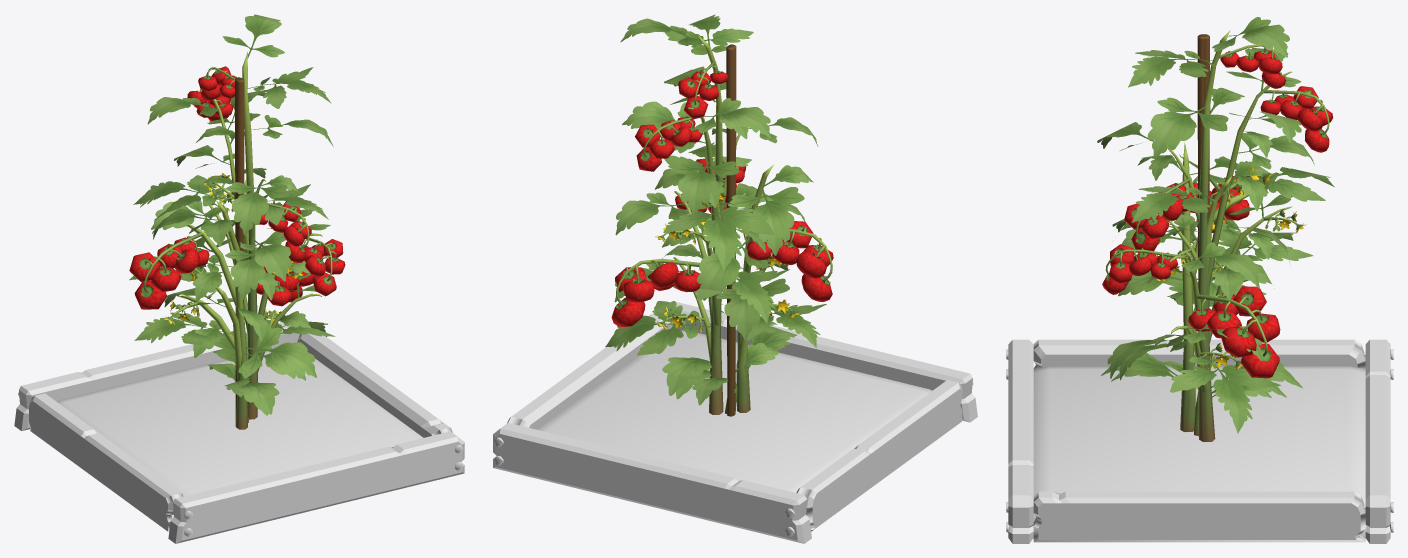
File: Tomato_Plants.fbx
The picture shows the model from 3 angles, left to right: view 1: azimuth 30°, elevation 25°; view 2: azimuth 150°, elevation 25°; view 3: azimuth 270°, elevation 25°; orthographic projection. The views are drawn at different scales.
Parts seen in each view (by area): view 1: toprak_low, Tomato_plant3, Tomato_plant2, Tomato_plant3_Tomatos; view 2: toprak_low, Tomato_plant3, Tomato_plant2, Tomato_plant3_Tomatos, Tomato_plant1; view 3: toprak_low, Tomato_plant3, Tomato_plant2, Tomato_plant3_Tomatos, Tomato_plant1.
Part boxes in pixels (x1,y1,x2,y2): toprak_low: (14,322,464,543); Tomato_plant3: (133,14,336,429); Tomato_plant2: (129,78,328,426); Tomato_plant3_Tomatos: (129,66,345,309); toprak_low: (493,302,977,543); Tomato_plant3: (605,14,832,416); Tomato_plant2: (614,44,804,414); Tomato_plant3_Tomatos: (611,71,833,326); Tomato_plant1: (692,342,779,413); toprak_low: (1006,339,1393,543); Tomato_plant3: (1097,17,1334,441); Tomato_plant2: (1111,34,1313,441); Tomato_plant3_Tomatos: (1102,49,1333,378); Tomato_plant1: (1159,361,1271,436).
Size of the model in its own units: 170 by 223 by 170.
